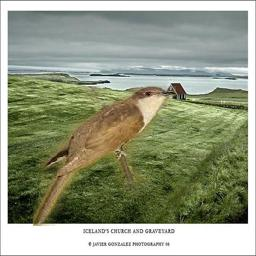Cuckoo: (34, 86, 177, 226)
